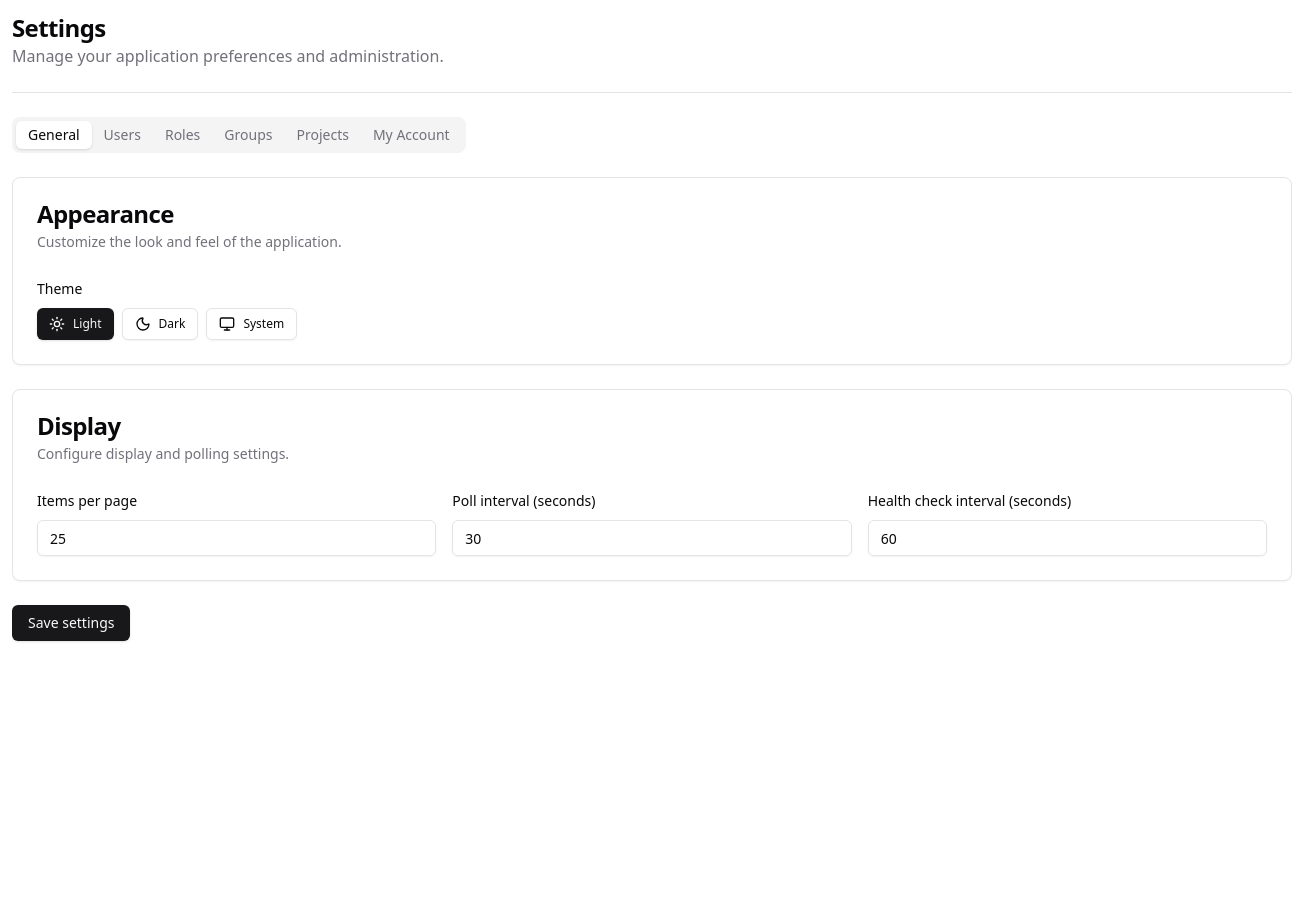
Test: SettingsPage › switches to Users tab on click and shows users table
Click the tab "Users". click: [122, 135]
box: [92,121,153,149]
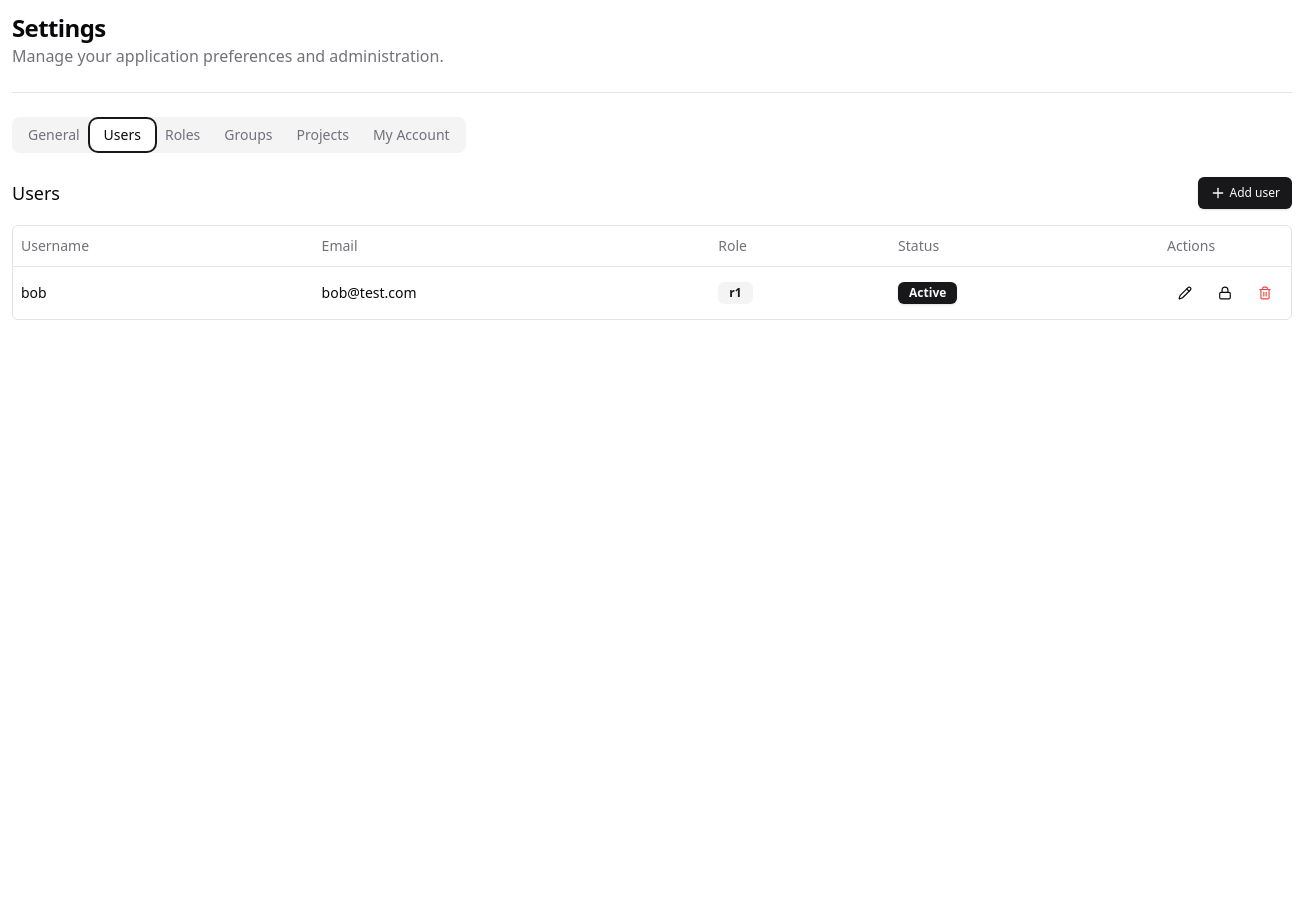
expect the text "bob" is shown: met, box [13,266,314,318]
